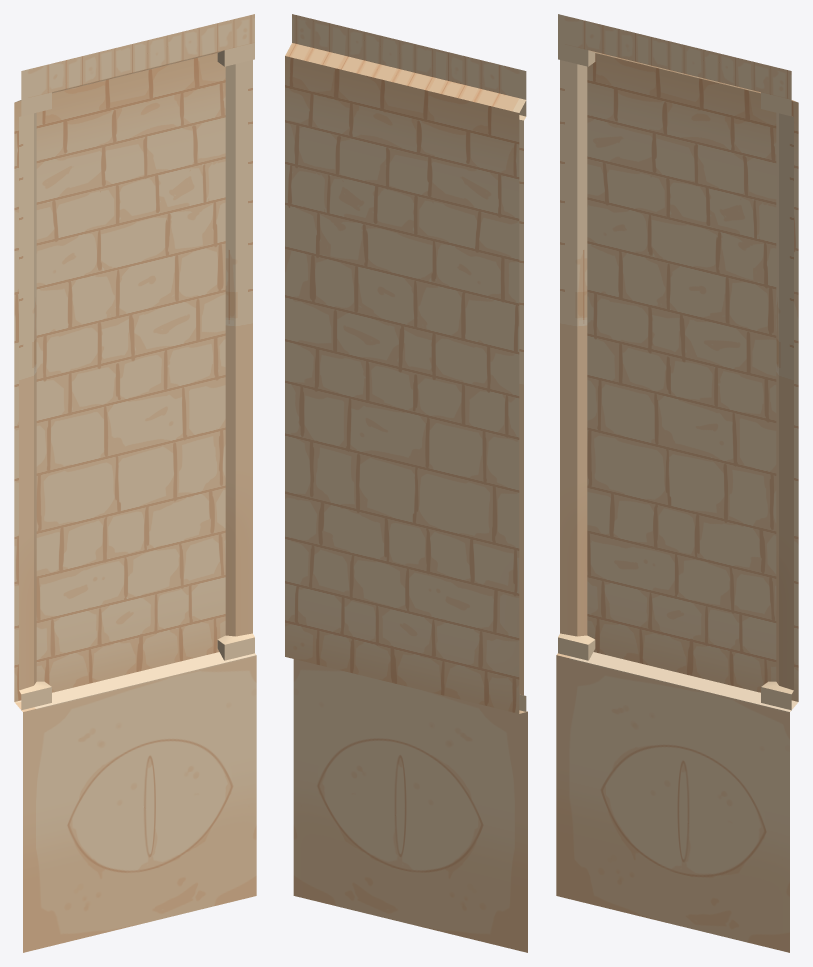
Rendered from desertWall_MESH.fbx.
The picture shows the model from 3 angles, left to right: view 1: azimuth 30°, elevation 25°; view 2: azimuth 150°, elevation 25°; view 3: azimuth 330°, elevation 25°; orthographic projection.
Visible parts, largest first — view 1: pPlane2; view 2: pPlane2; view 3: pPlane2.
Part boxes in pixels (x1=…): pPlane2: x1=14, y1=14, x2=256, y2=952; pPlane2: x1=285, y1=14, x2=527, y2=952; pPlane2: x1=556, y1=14, x2=798, y2=952.
Bounding box in the file's own units: 1 × 3.6 × 0.0634.
